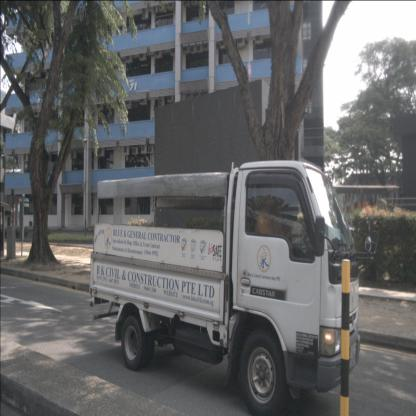vehicle-truck: (89, 160, 360, 415)
